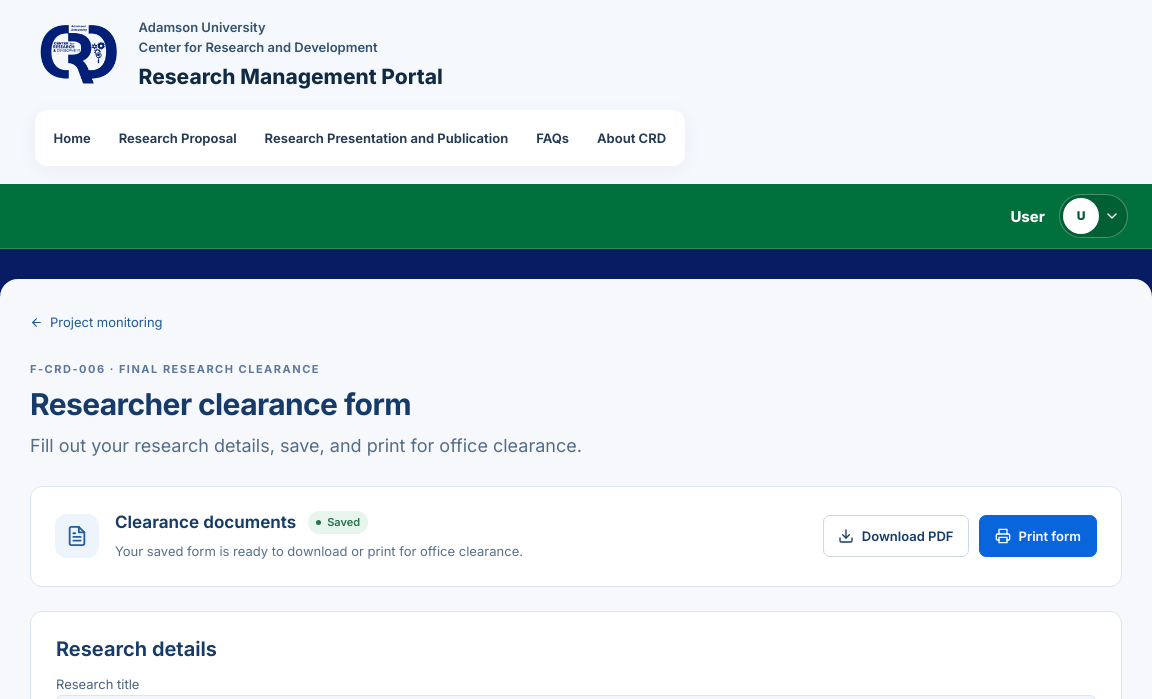
a changed server revision prevents exporting an outdated form
What coordinates should you click on to do the following:
click the button "Print form"
I would click on:
 (1038, 536)
Its box is [978, 515, 1097, 557].
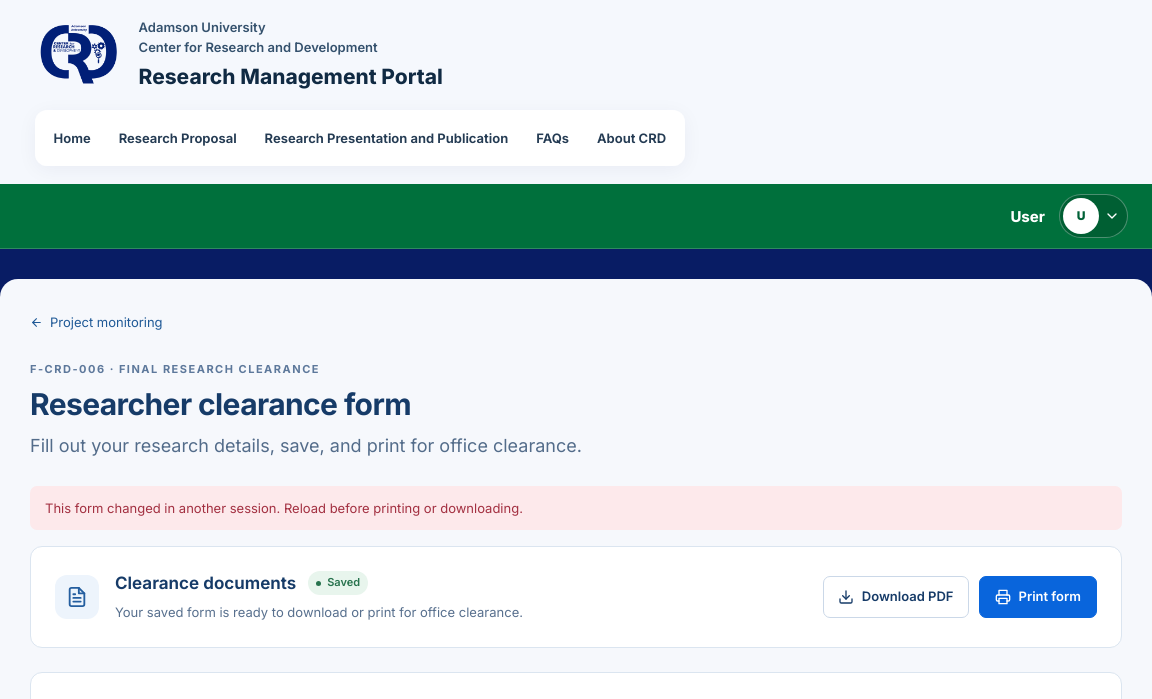
Expected: the text "changed in another session" is shown, [45, 500, 523, 516]
